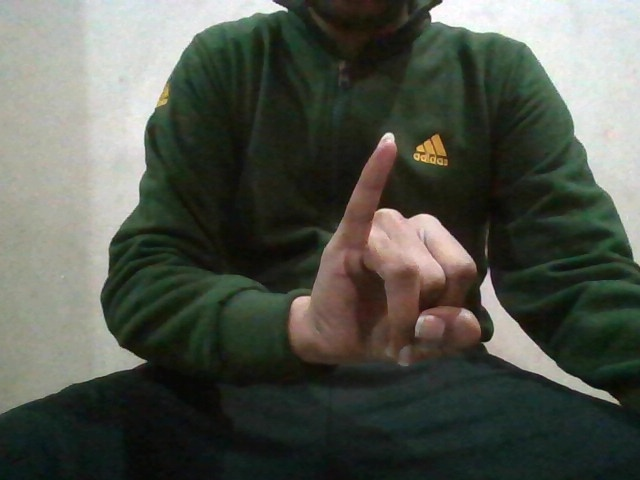I: (303, 130, 484, 368)
